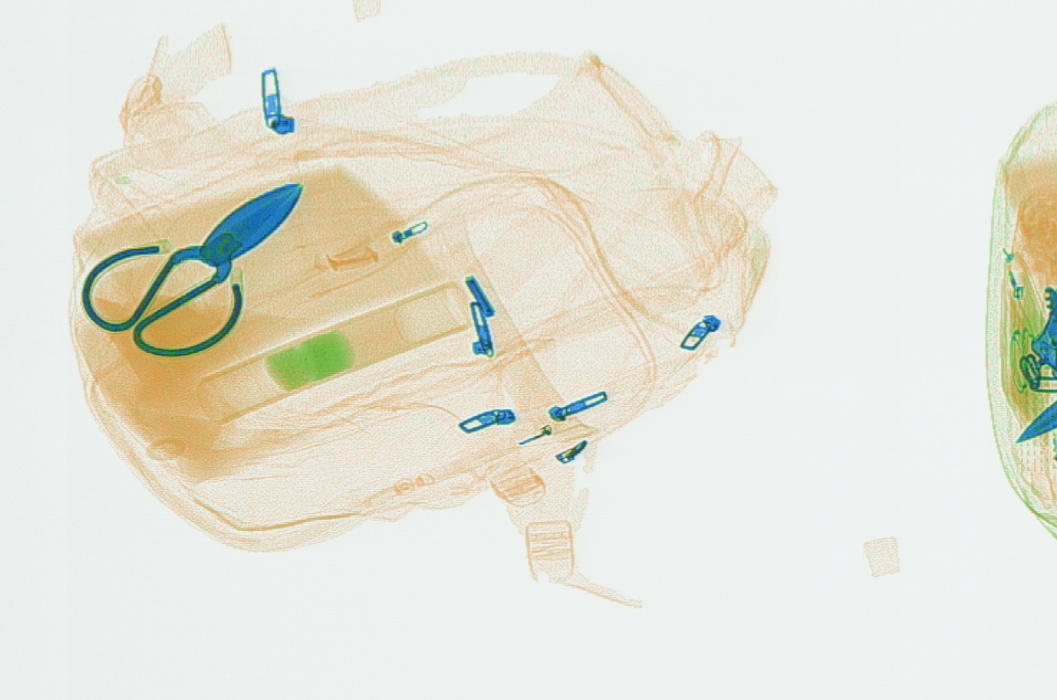firecrackers: (196, 280, 475, 425)
scissors: (78, 180, 304, 354)
